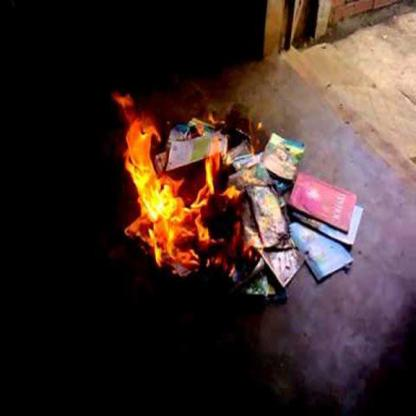fire: (118, 92, 278, 275)
